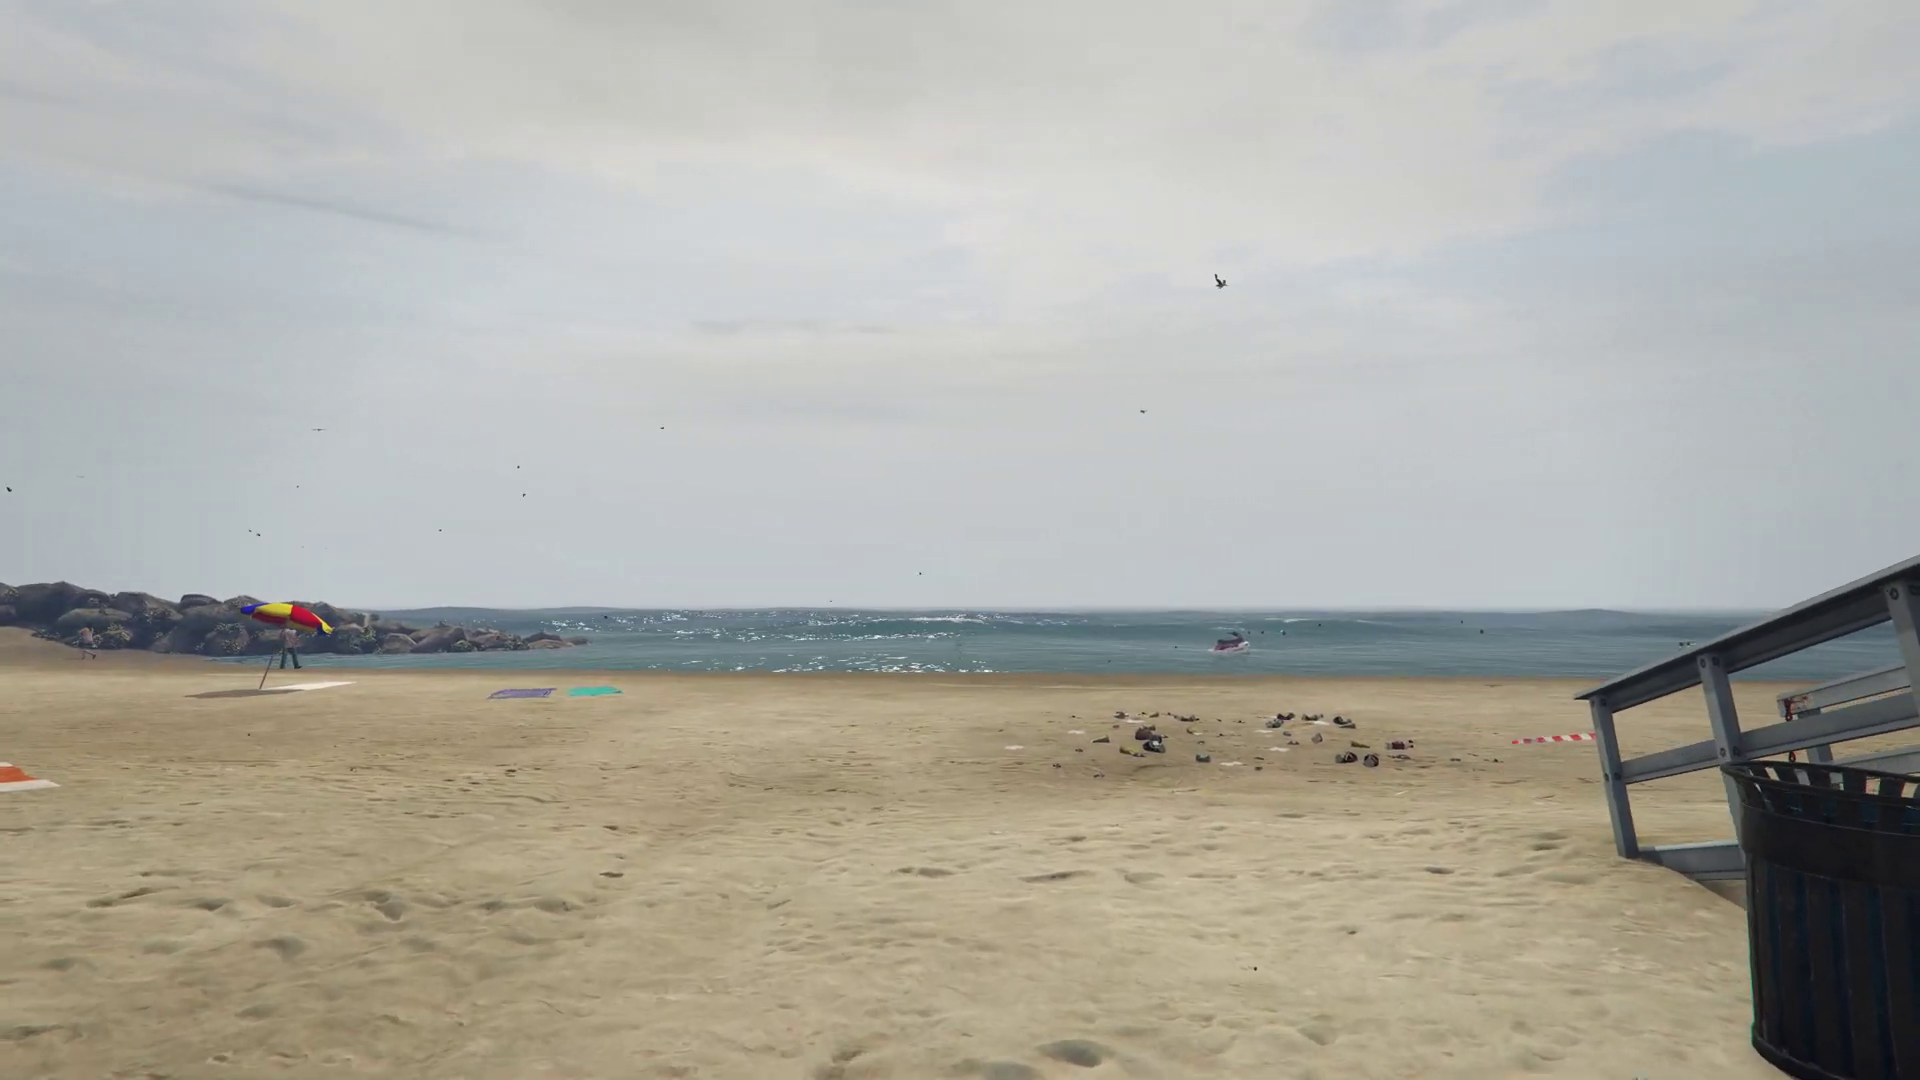person: (281, 627, 303, 669)
